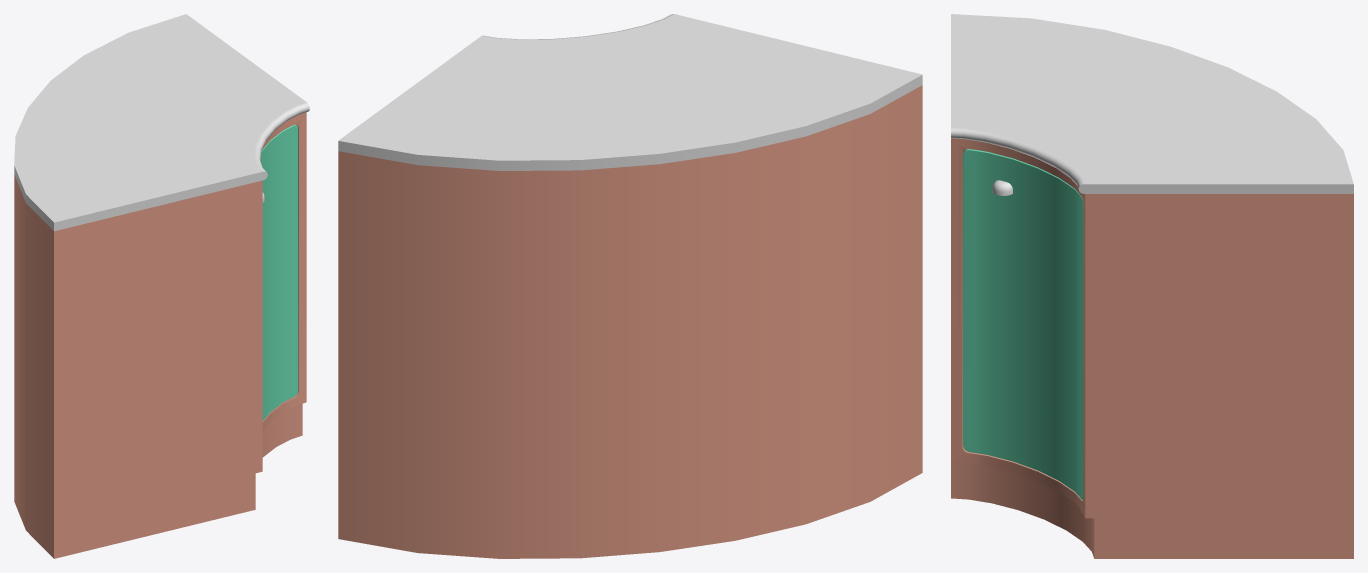
The model's file is Counter_Corner.fbx.
The picture shows the model from 3 angles, left to right: view 1: azimuth 30°, elevation 25°; view 2: azimuth 150°, elevation 25°; view 3: azimuth 270°, elevation 25°; orthographic projection. The views are drawn at different scales.
Parts seen in each view (by area): view 1: Counter_Corner; view 2: Counter_Corner; view 3: Counter_Corner.
Boxes of the visible parts, box(x1,y1,x2,y2) form: Counter_Corner: box(14, 14, 309, 558); Counter_Corner: box(338, 14, 922, 558); Counter_Corner: box(951, 14, 1353, 558).
Bounding box in the file's own units: 900 × 900 × 924.
